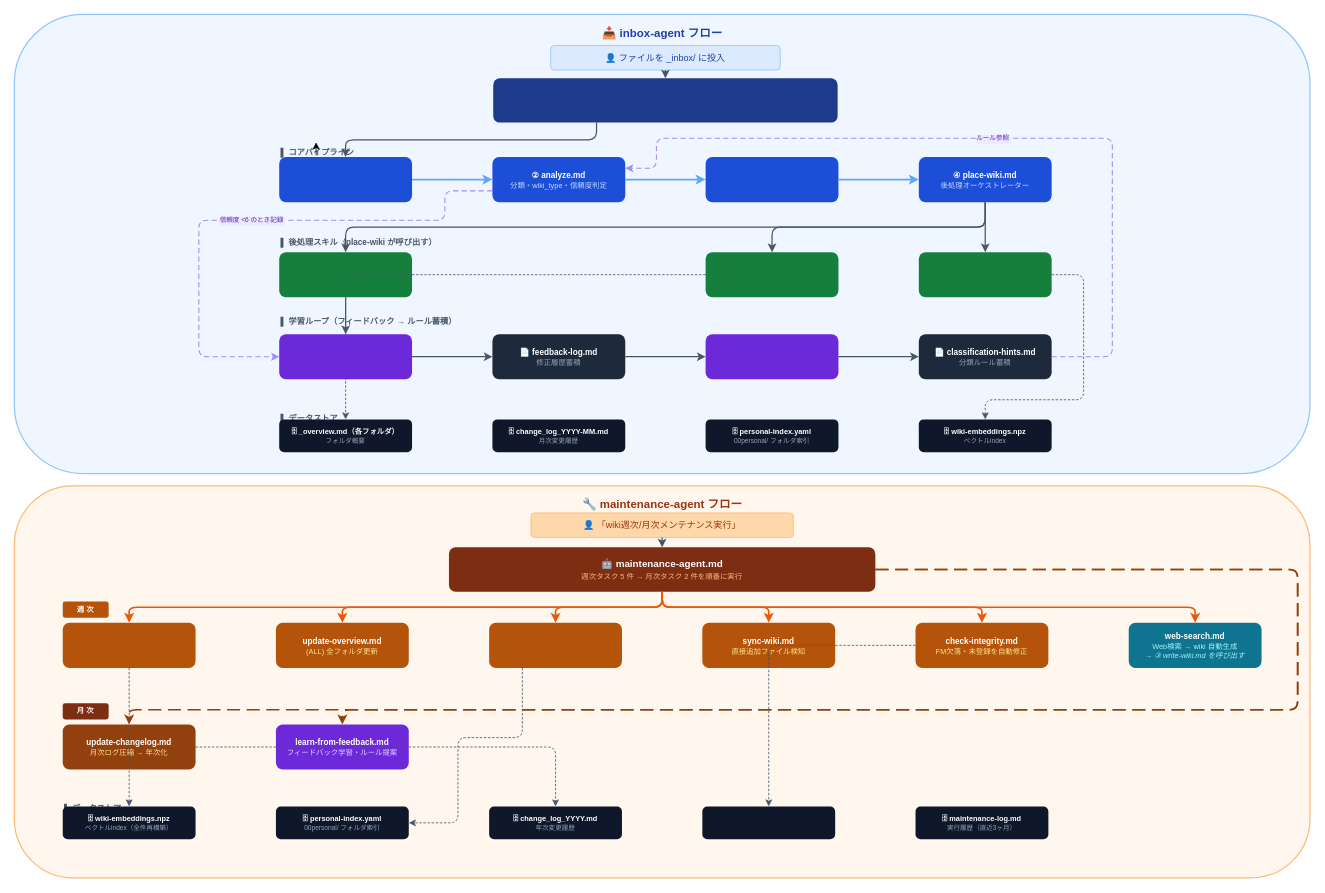
Image size: 1325x893. Some labels were removed from this diagram. Each missing label, with the centre of its shape:
index-builder.md (add) ベクトルindex 1件追加: (984,274)
index-builder.md (rebuild) 全件再構築: (128,644)
learn-from-feedback.md ルール抽出・提案: (771,356)
record-feedback.md 修正を即時記録: (345,356)
route-binary.md → 00personal/ へ移動: (345,274)
sync-personal.md 00personal/ フォルダ同期: (555,644)
update-overview.md _overview.md 更新: (771,274)
① convert-binary.md テキスト抽出・URL取得: (345,179)
③ write-wiki.md wiki Markdown 生成・保存: (771,179)
🗄 integrity-report.md 整合性チェック結果: (768,822)
🤖 inbox-agent.md 「inbox処理して」で起動 → 1ファイルずつ順番に処理: (665,100)
